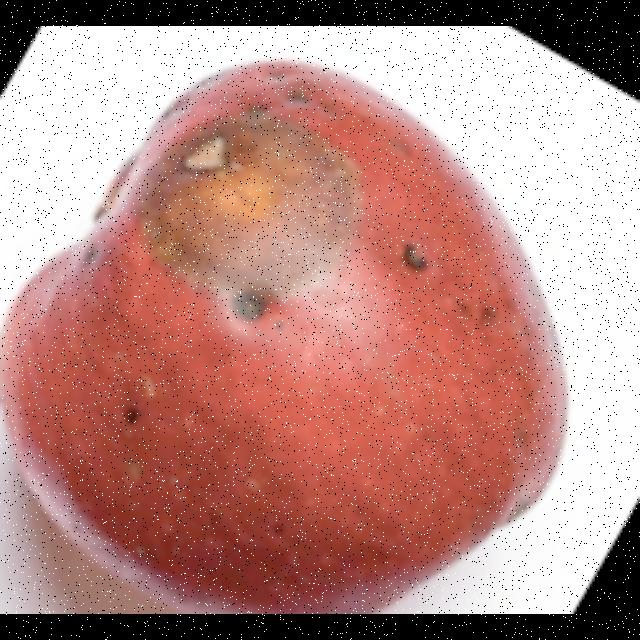Apel Tidak Segar: (0, 65, 576, 615)
